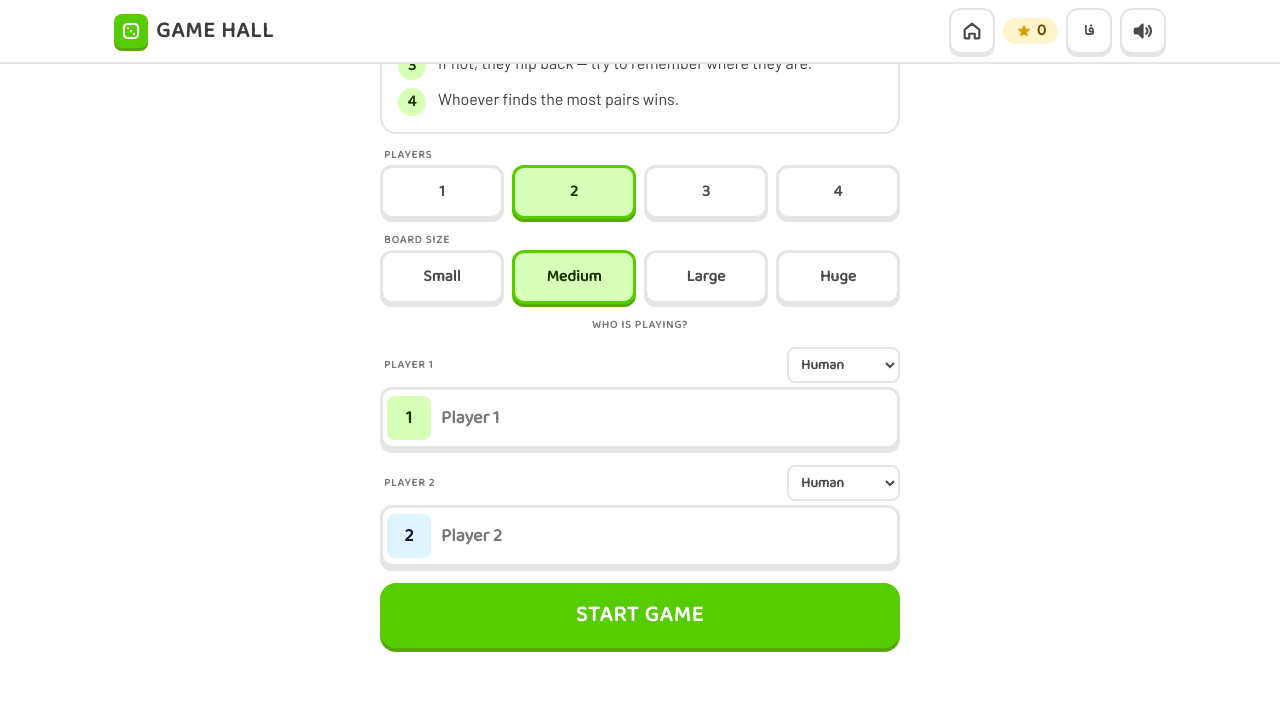
Memory — playing › a miss shows both cards for a moment, locks input, then flips them back
(page scrolled)
What coordinates should you click on to do the following:
click the button "Start game"
I would click on:
 (640, 616)
Its box is left=380, top=583, right=900, bottom=648.
(page scrolled)
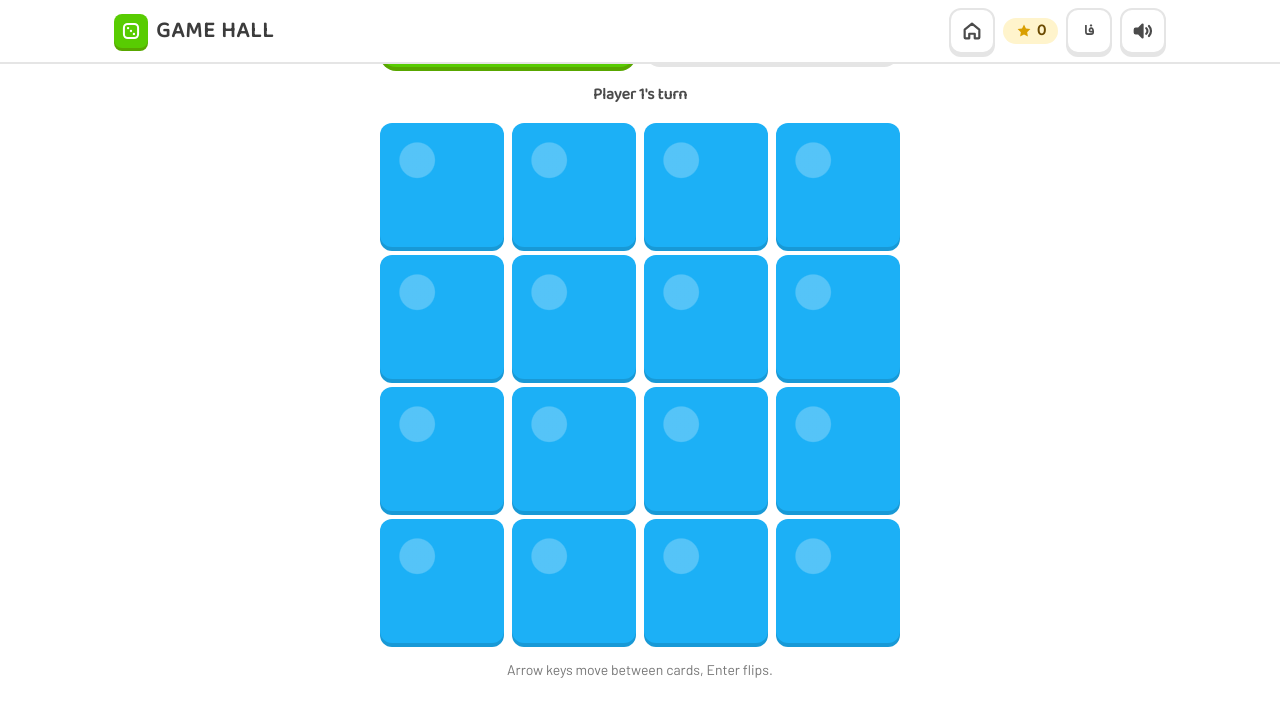
What coordinates should you click on to do the following:
click the button named "Card 1, face down"
I would click on:
 (442, 185)
Its box is left=380, top=123, right=504, bottom=247.
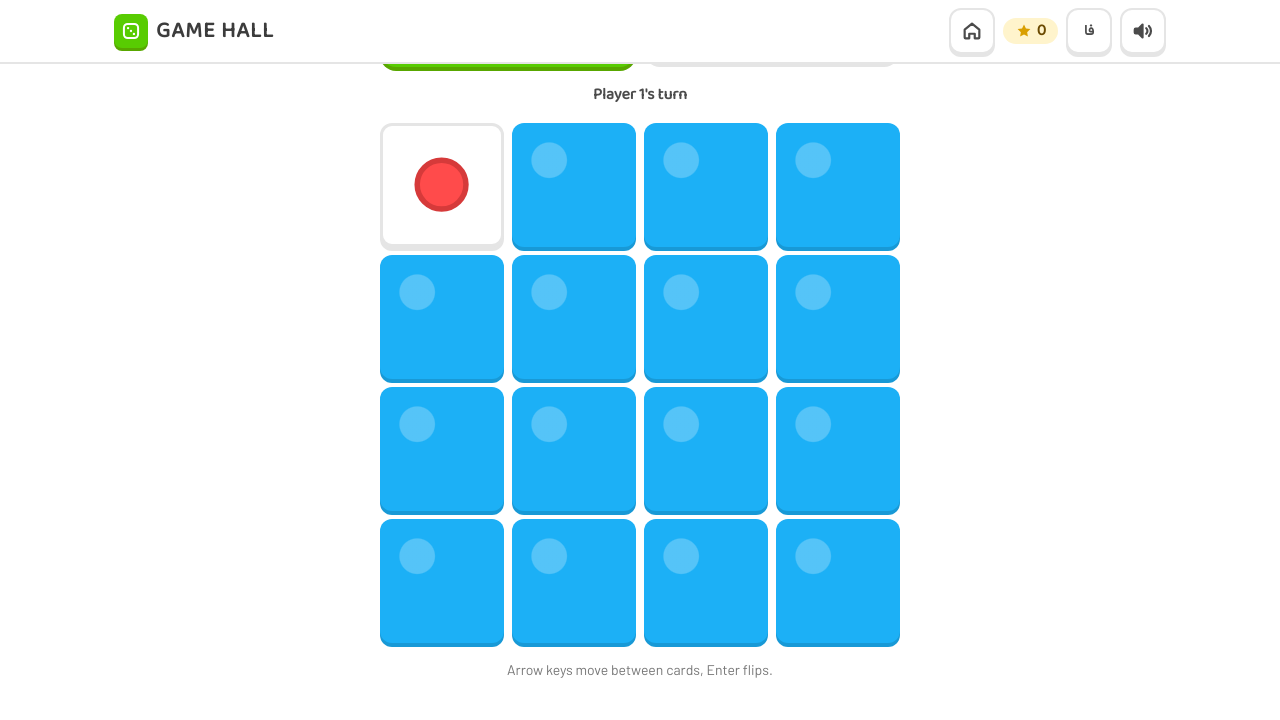
What coordinates should you click on to do the following:
click the button named "Card 2, face down"
I would click on:
 (574, 185)
Its box is left=512, top=123, right=636, bottom=247.
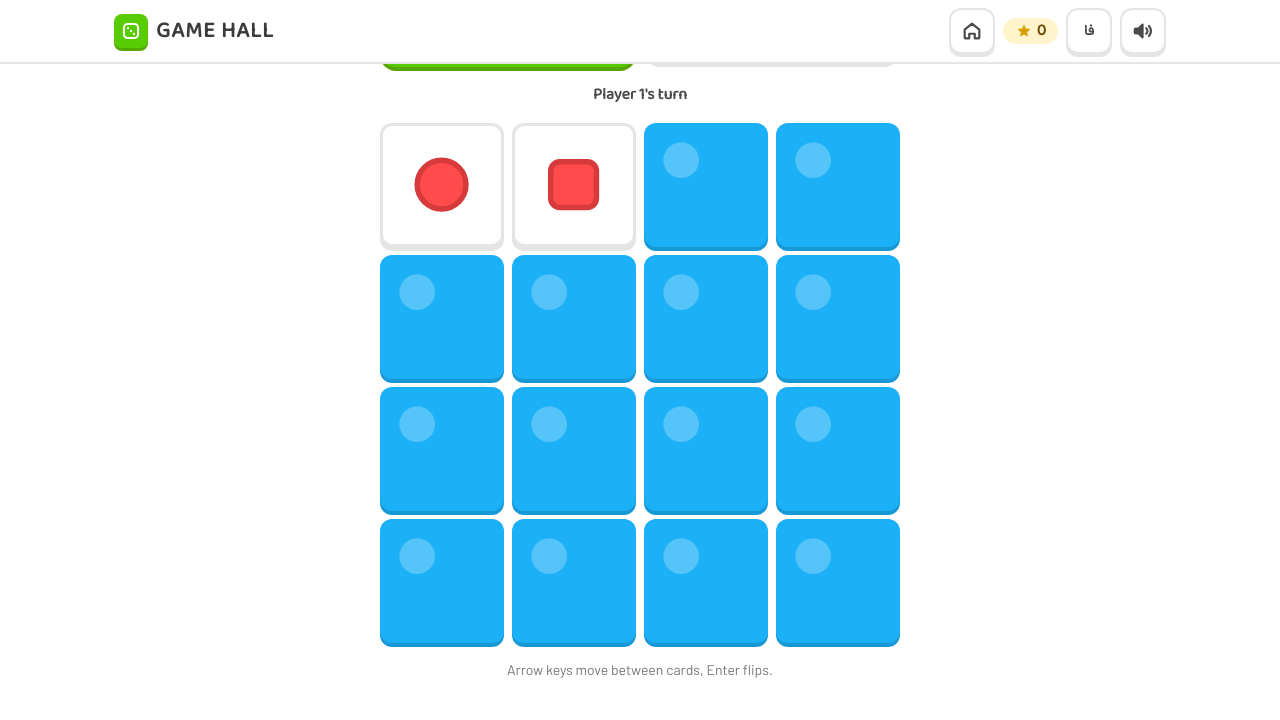
What coordinates should you click on to do the following:
click the button named "Card 3, face down"
I would click on:
 (706, 185)
Its box is left=644, top=123, right=768, bottom=247.
Wait 920 ms
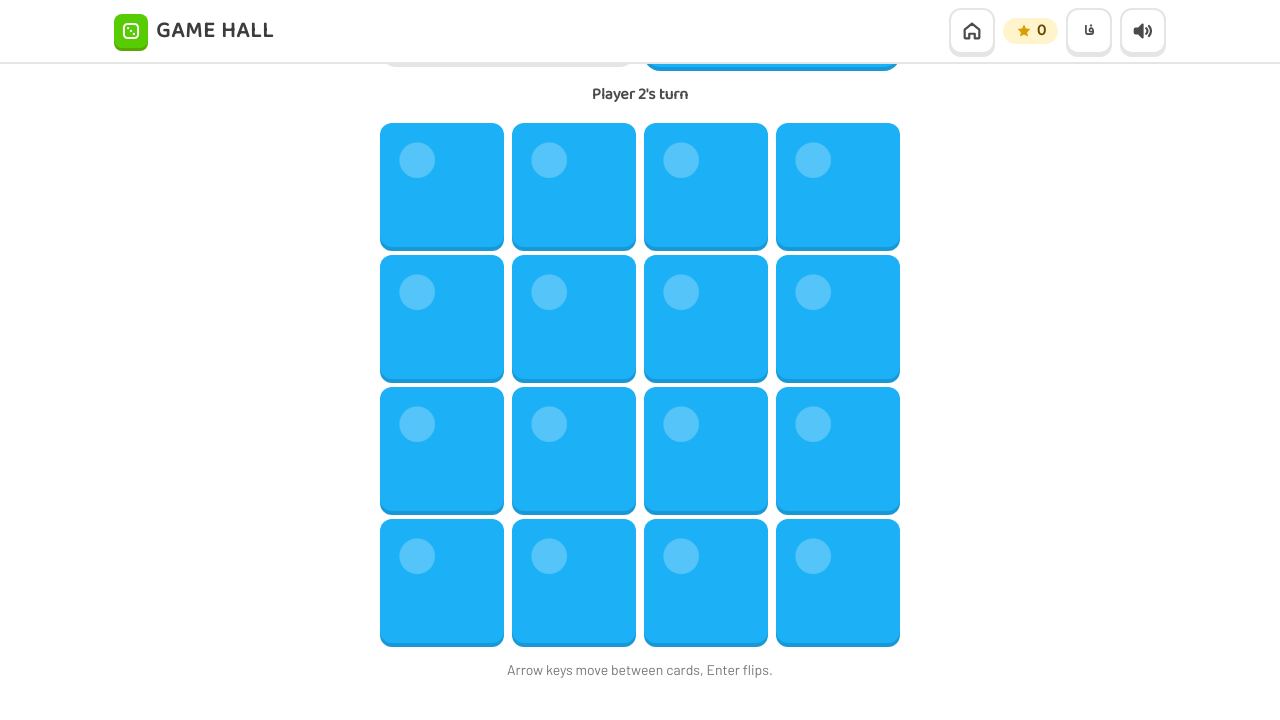
Now the message with class "mem-status" reads "Player 2's turn", box left=592, top=82, right=688, bottom=107
